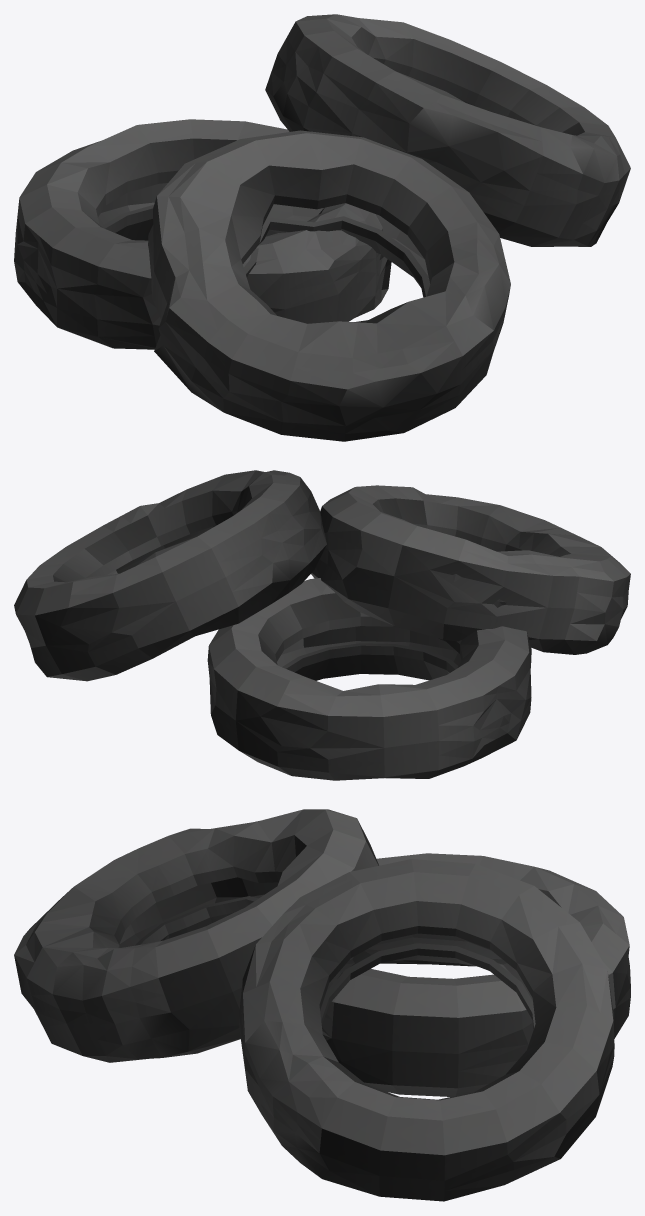
Rendered from tire_cluster_2.obj.
The picture shows the model from 3 angles, top to bottom: view 1: azimuth 30°, elevation 25°; view 2: azimuth 150°, elevation 25°; view 3: azimuth 270°, elevation 25°; orthographic projection. The views are drawn at different scales.
Visible parts, largest first — view 1: tire_cluster_2_Mesh; view 2: tire_cluster_2_Mesh; view 3: tire_cluster_2_Mesh.
Part boxes in pixels (x1=…): tire_cluster_2_Mesh: x1=14, y1=14, x2=630, y2=441; tire_cluster_2_Mesh: x1=14, y1=470, x2=630, y2=780; tire_cluster_2_Mesh: x1=14, y1=809, x2=630, y2=1201.
Size of the model in its own units: 1.96 by 0.7551 by 1.85.
